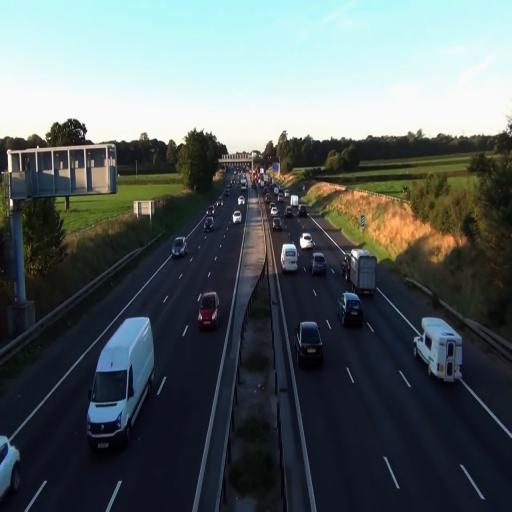vehicle: (86, 314, 156, 452), (86, 314, 155, 452), (413, 316, 463, 385), (342, 248, 377, 300), (0, 432, 21, 500), (296, 320, 324, 368), (338, 291, 363, 328), (197, 290, 219, 332), (280, 242, 298, 274), (310, 251, 327, 278), (172, 236, 189, 259), (232, 197, 246, 224), (232, 208, 242, 224)
